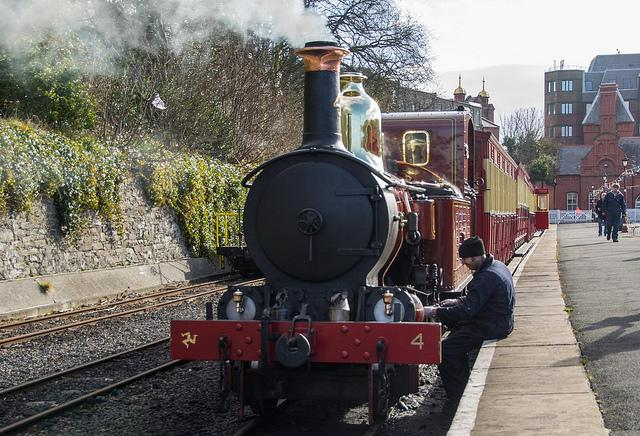Train: (169, 41, 550, 421)
